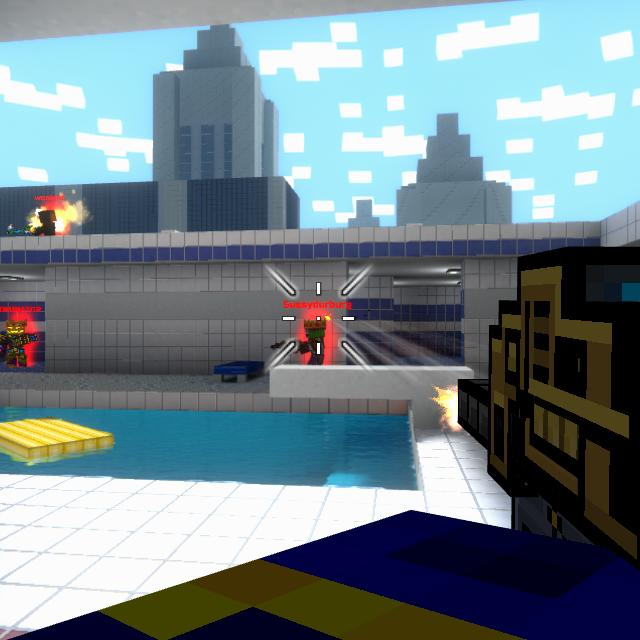Enemy: (0, 319, 38, 367), (300, 318, 326, 365), (34, 210, 58, 236)
